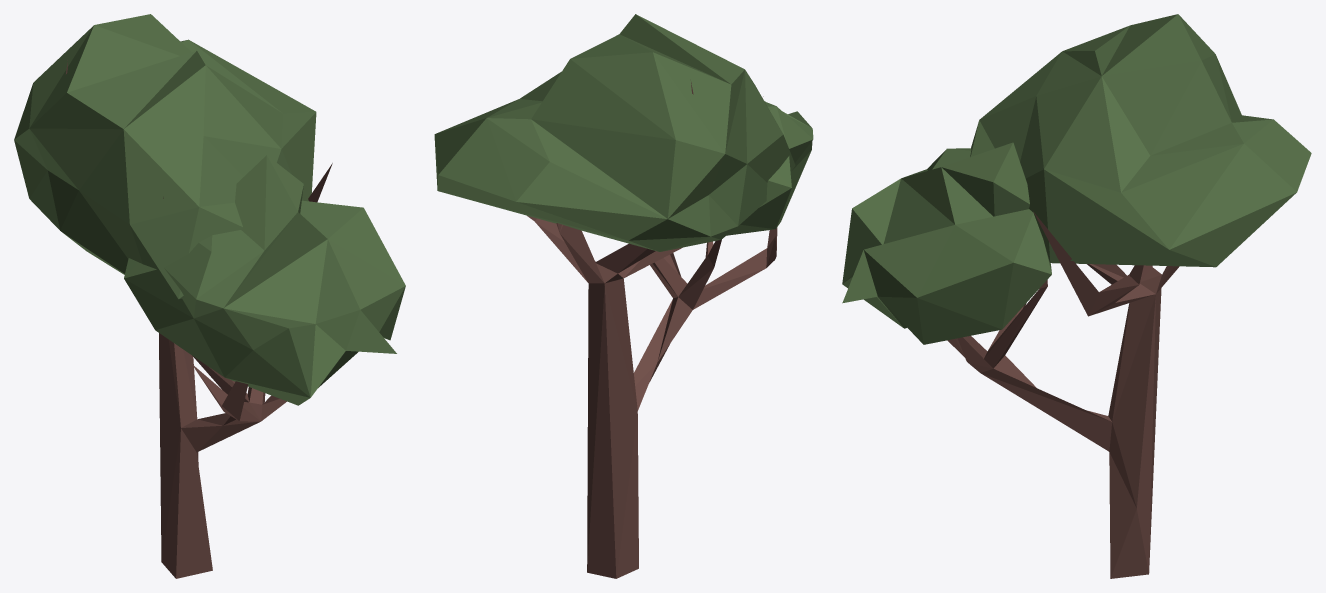
Rendered from CommonTree_2.lod3.glb.
3 renders of one model, left to right at view 1: azimuth 30°, elevation 25°; view 2: azimuth 150°, elevation 25°; view 3: azimuth 270°, elevation 25°, orthographic. The views are drawn at different scales.
Parts seen in each view (by area): view 1: CommonTree_2; view 2: CommonTree_2; view 3: CommonTree_2.
Part boxes in pixels (x1,y1,x2,y2): CommonTree_2: (14,14,405,578); CommonTree_2: (434,14,813,578); CommonTree_2: (842,14,1311,578).
Size of the model in its own units: 1.71 by 3.1 by 2.51.
